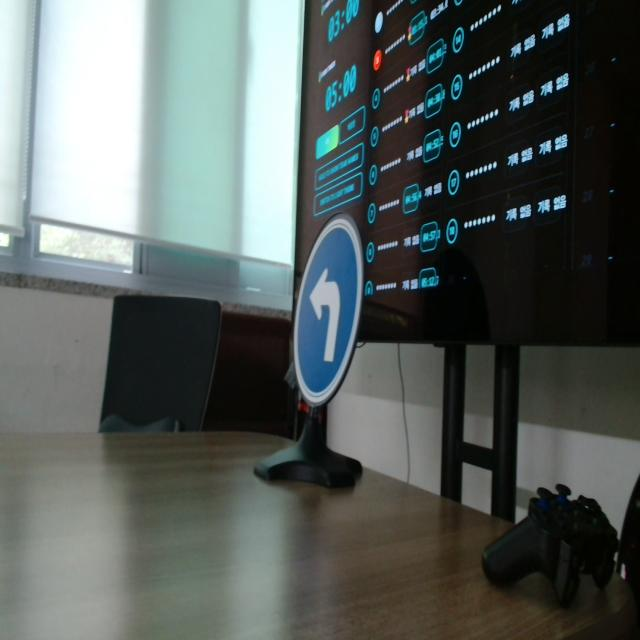left_direction: (291, 206, 374, 435)
